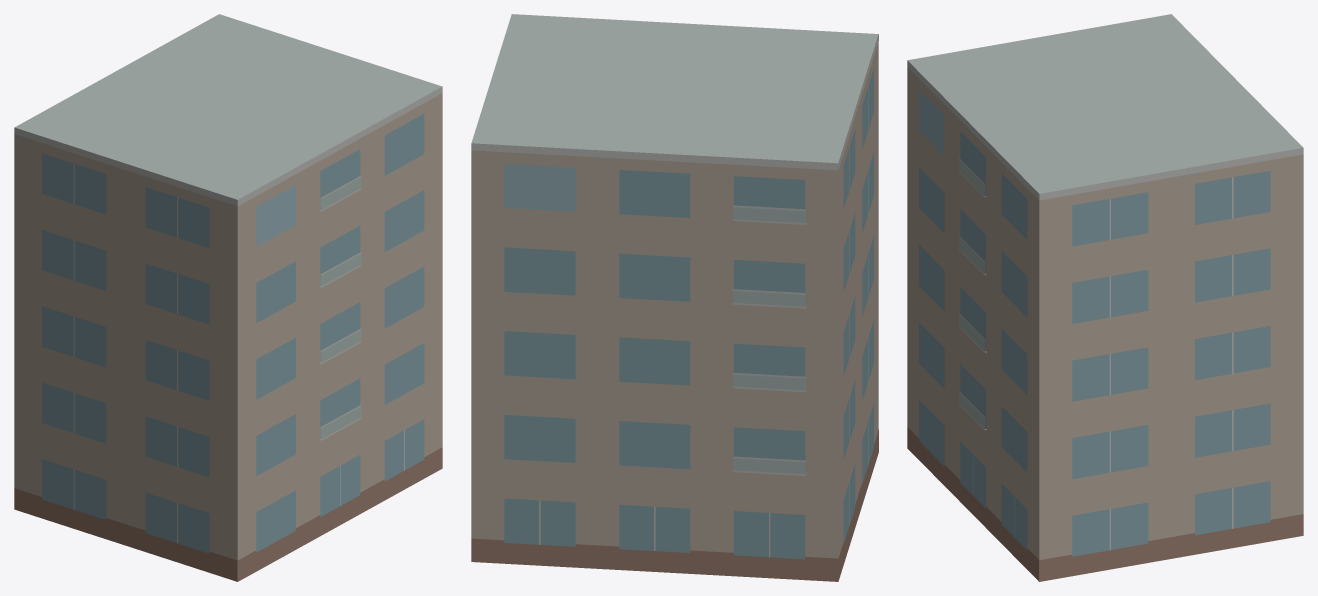
The model's file is survey-upis-32722178.glb.
The picture shows the model from 3 angles, left to right: view 1: azimuth 30°, elevation 25°; view 2: azimuth 150°, elevation 25°; view 3: azimuth 270°, elevation 25°; orthographic projection. The views are drawn at different scales.
Visible parts, largest first — view 1: survey-upis-32722178.tmp; view 2: survey-upis-32722178.tmp; view 3: survey-upis-32722178.tmp.
Part boxes in pixels (left/top/right/bottom): survey-upis-32722178.tmp: left=14, top=14, right=442, bottom=581; survey-upis-32722178.tmp: left=471, top=14, right=878, bottom=581; survey-upis-32722178.tmp: left=907, top=14, right=1303, bottom=581.
Size of the model in its own units: 14.28 by 14.35 by 13.29.
